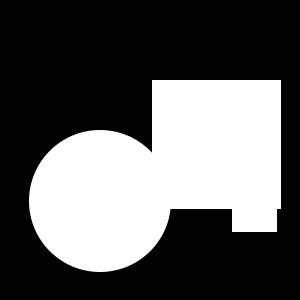circle: (152, 80, 281, 209), (232, 187, 277, 232)
rectangle: (29, 130, 171, 272)
triangle: (181, 96, 267, 182), (190, 111, 270, 191)
